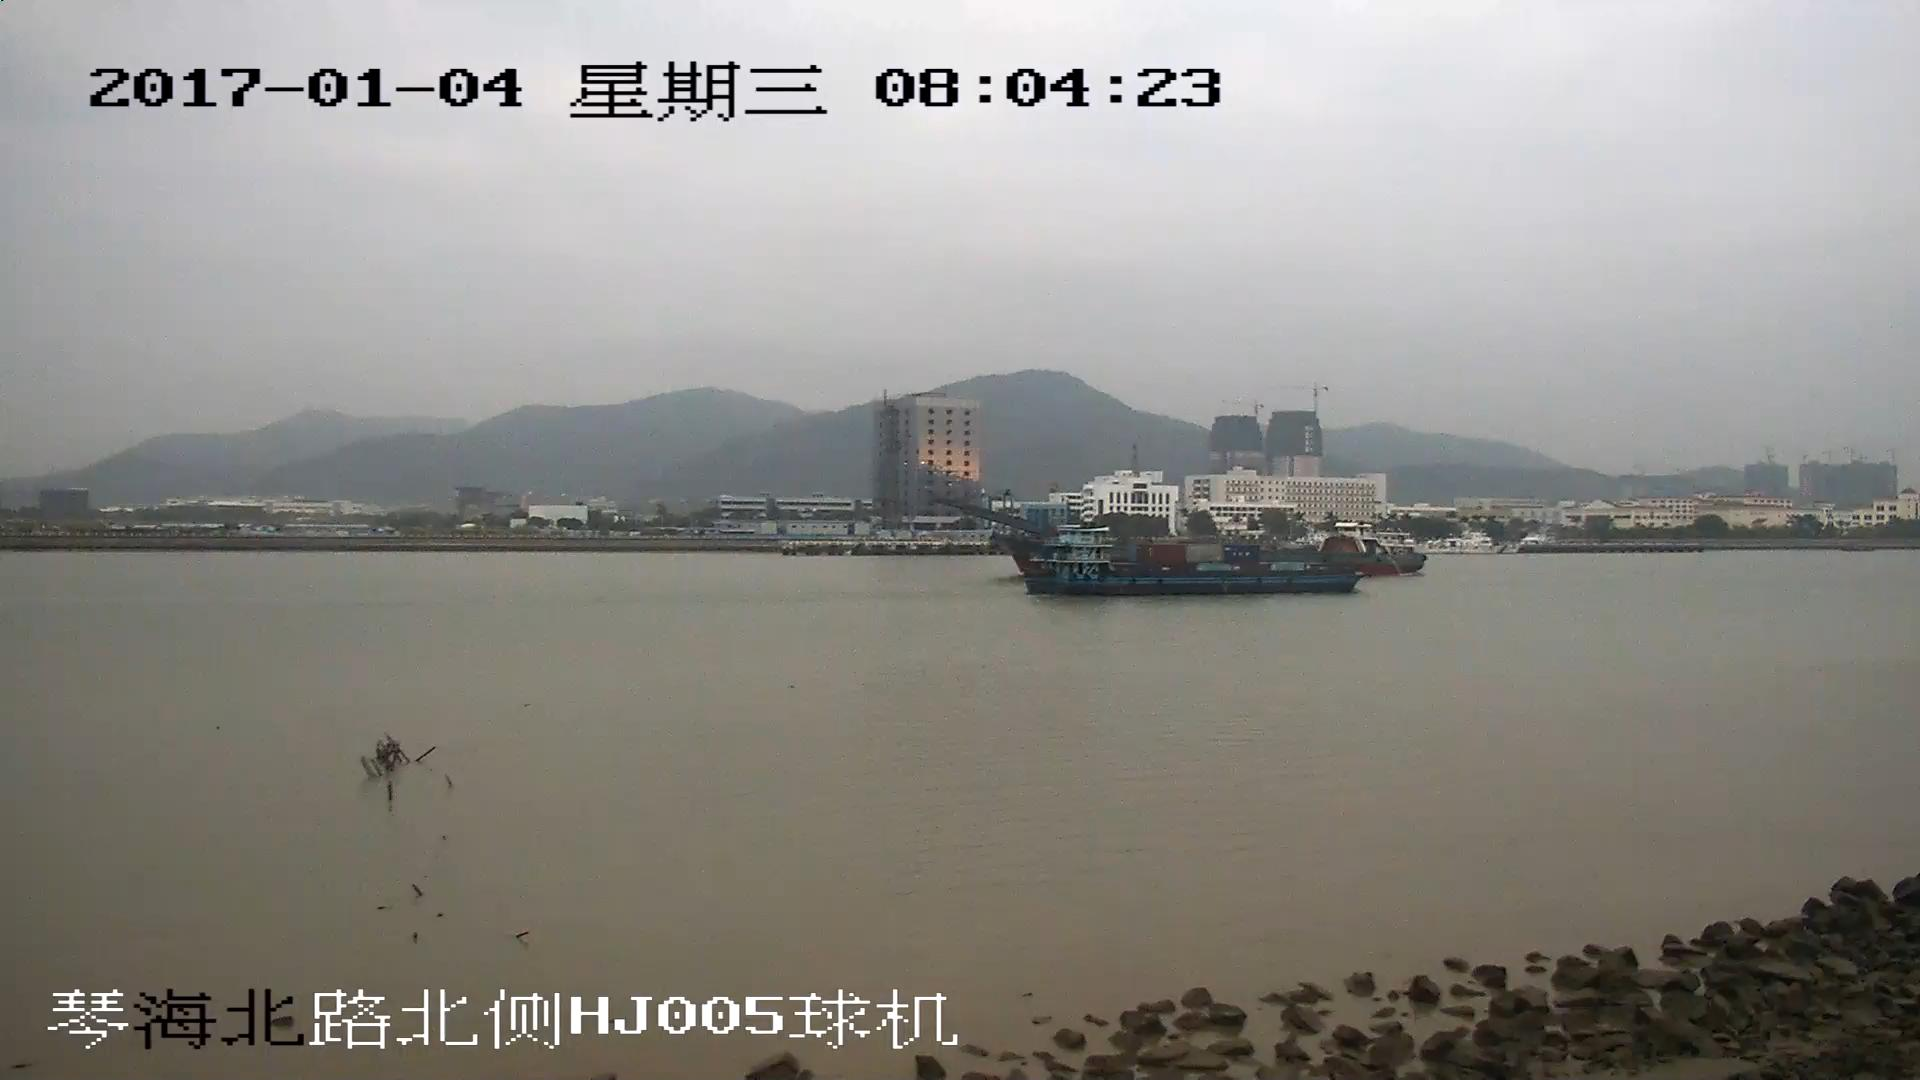container ship: (1026, 529, 1358, 589)
